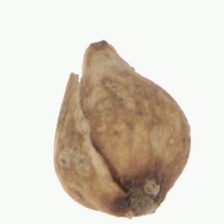L1: (64, 38, 121, 96), (108, 176, 172, 219)
L2: (53, 39, 192, 219)
